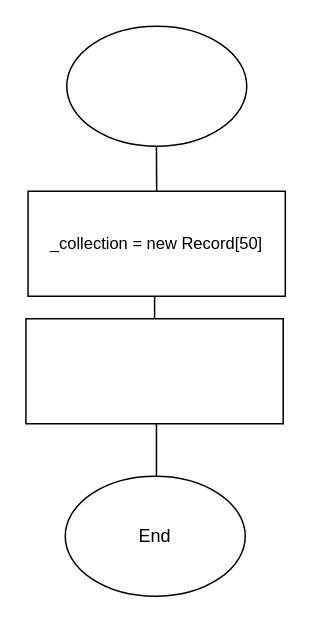
Some shapes in this 312 by 623 pixel diagram are drawn without their labels. Here are the shapes that lost their labels. From the top down, the box of each, then its label:
(65, 25, 247, 146): Start
(24, 317, 283, 424): _counter = 0
